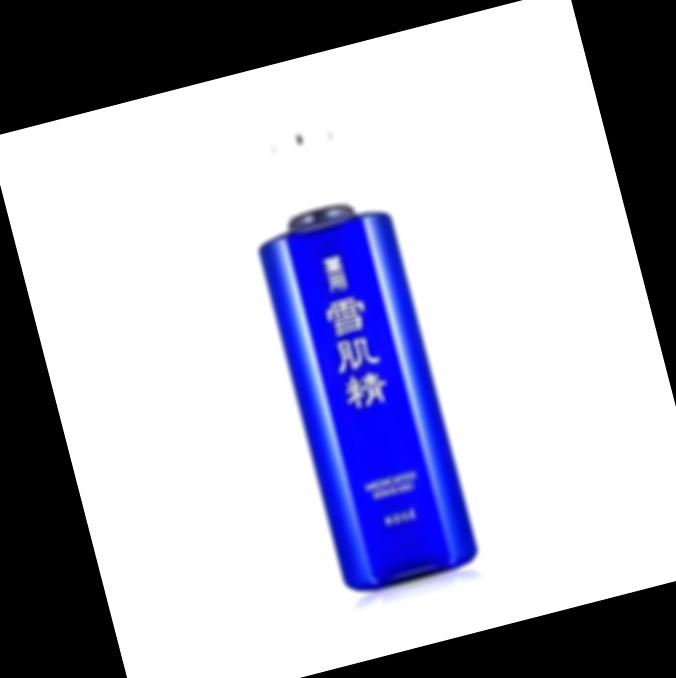cosmetic: (231, 118, 489, 599)
